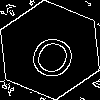O: (25, 25, 84, 82)
